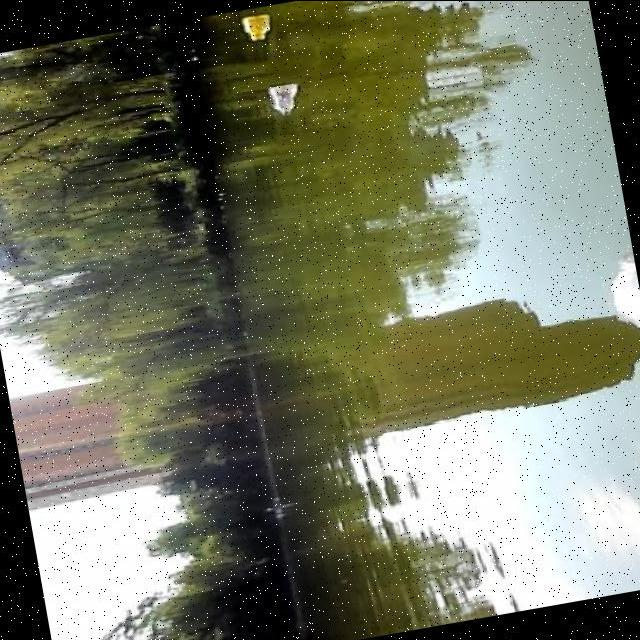Bottle: (240, 10, 270, 51)
Waste: (262, 78, 308, 122)
